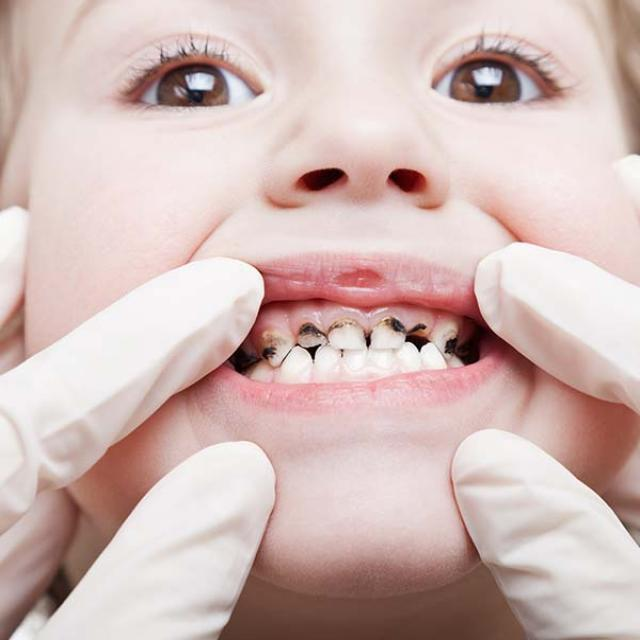Cavity: (245, 321, 301, 369), (319, 312, 371, 353), (295, 309, 329, 361), (372, 316, 409, 355), (435, 319, 467, 359), (410, 320, 434, 346)
